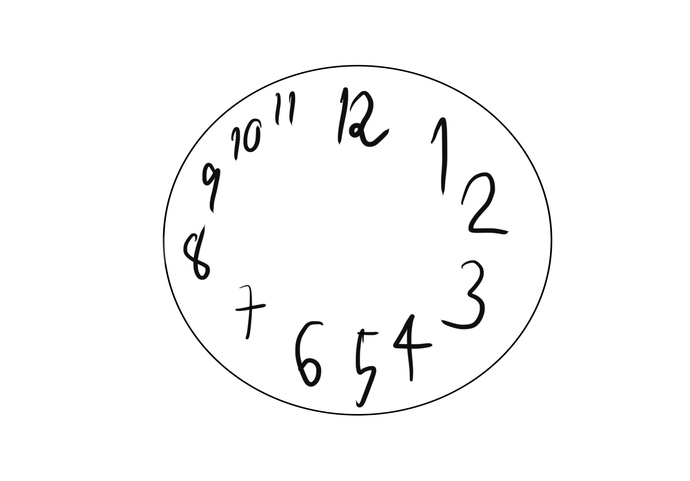eight: (183, 228, 216, 282)
eleven: (269, 86, 303, 125)
five: (342, 319, 380, 409)
four: (390, 308, 429, 385)
nine: (200, 164, 225, 212)
one: (426, 105, 453, 204)
seven: (231, 277, 270, 342)
six: (296, 309, 326, 388)
ten: (230, 118, 263, 157)
three: (443, 251, 490, 334)
twelve: (332, 83, 399, 156)
two: (460, 165, 511, 239)
